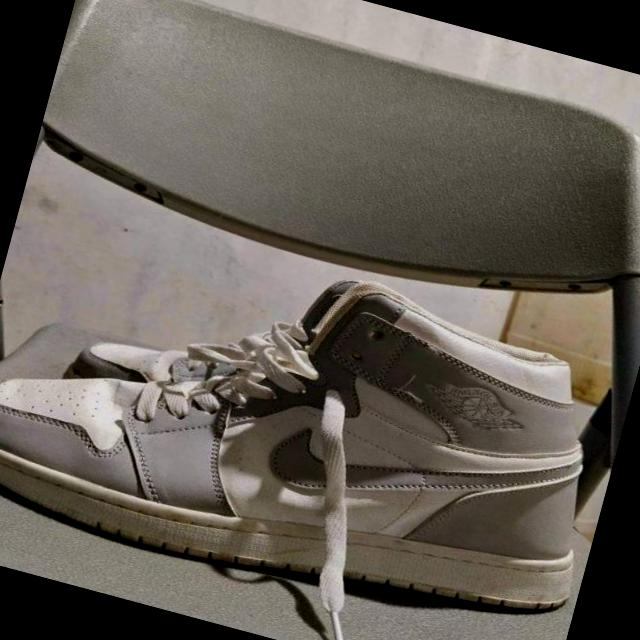nike_original_airforce: (0, 198, 636, 640)
